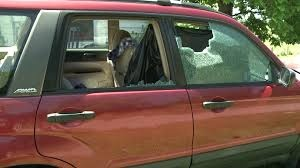Broken-glass: (59, 15, 174, 87), (1, 13, 35, 93), (173, 20, 225, 70)
